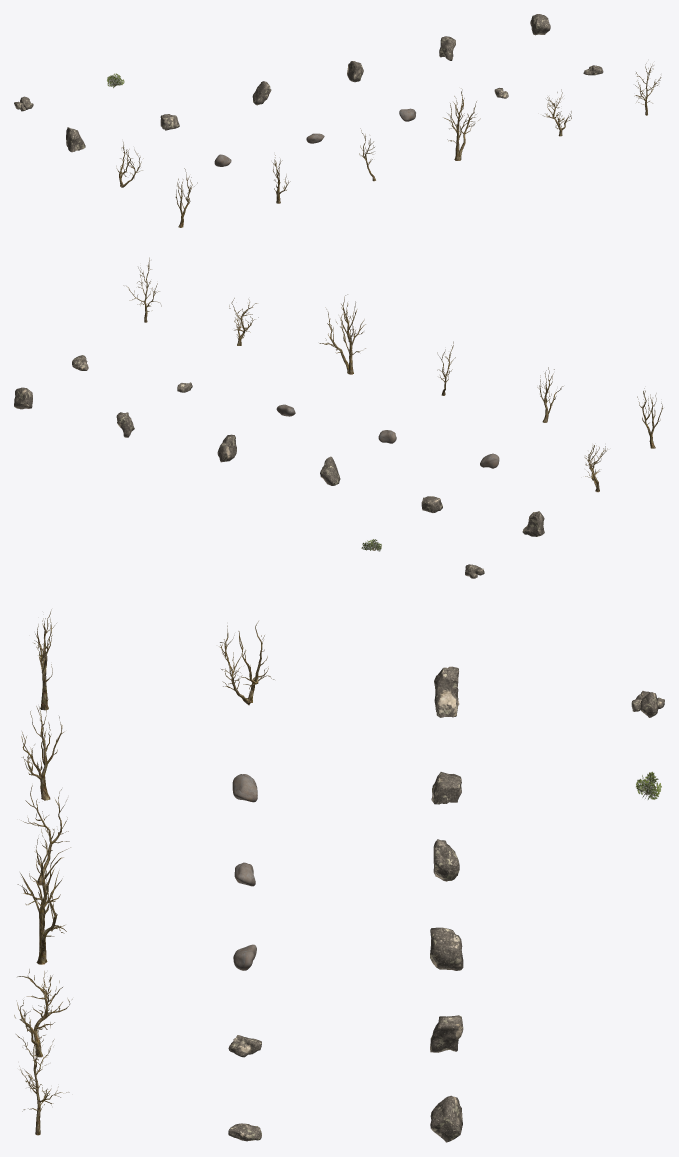
File: ENV_Desert.glb
3 renders of one model, top to bottom at view 1: azimuth 30°, elevation 25°; view 2: azimuth 150°, elevation 25°; view 3: azimuth 270°, elevation 25°, orthographic. The views are drawn at different scales.
Visible parts, largest first — view 1: DEAD_TREE_4, BOULDER_8, BOULDER_3, DEAD_TREE_5; view 2: DEAD_TREE_4; view 3: DEAD_TREE_4, BOULDER_6, BOULDER_8, BOULDER_3, BOULDER_7, DEAD_TREE_5, DEAD_TREE_7, DEAD_TREE_2, BOULDER_5, BOULDER_4, DEAD_TREE_6.
Part boxes in pixels (x1,y1,x2,y2): DEAD_TREE_4: (443,88,480,160); BOULDER_8: (530,14,550,35); BOULDER_3: (66,127,85,152); DEAD_TREE_5: (542,89,571,136); DEAD_TREE_4: (319,294,365,374); DEAD_TREE_4: (17,829,70,964); BOULDER_6: (430,927,463,970); BOULDER_8: (430,1095,462,1142); BOULDER_3: (434,666,459,717); BOULDER_7: (430,1015,463,1052); DEAD_TREE_5: (14,969,72,1057); DEAD_TREE_7: (219,621,274,705); DEAD_TREE_2: (21,699,64,800); BOULDER_5: (433,839,459,881); BOULDER_4: (431,772,461,804); DEAD_TREE_6: (16,1025,69,1135).
Bounding box in the file's own units: 63.57 × 9.15 × 38.77.
5 materials, 5 textured.
